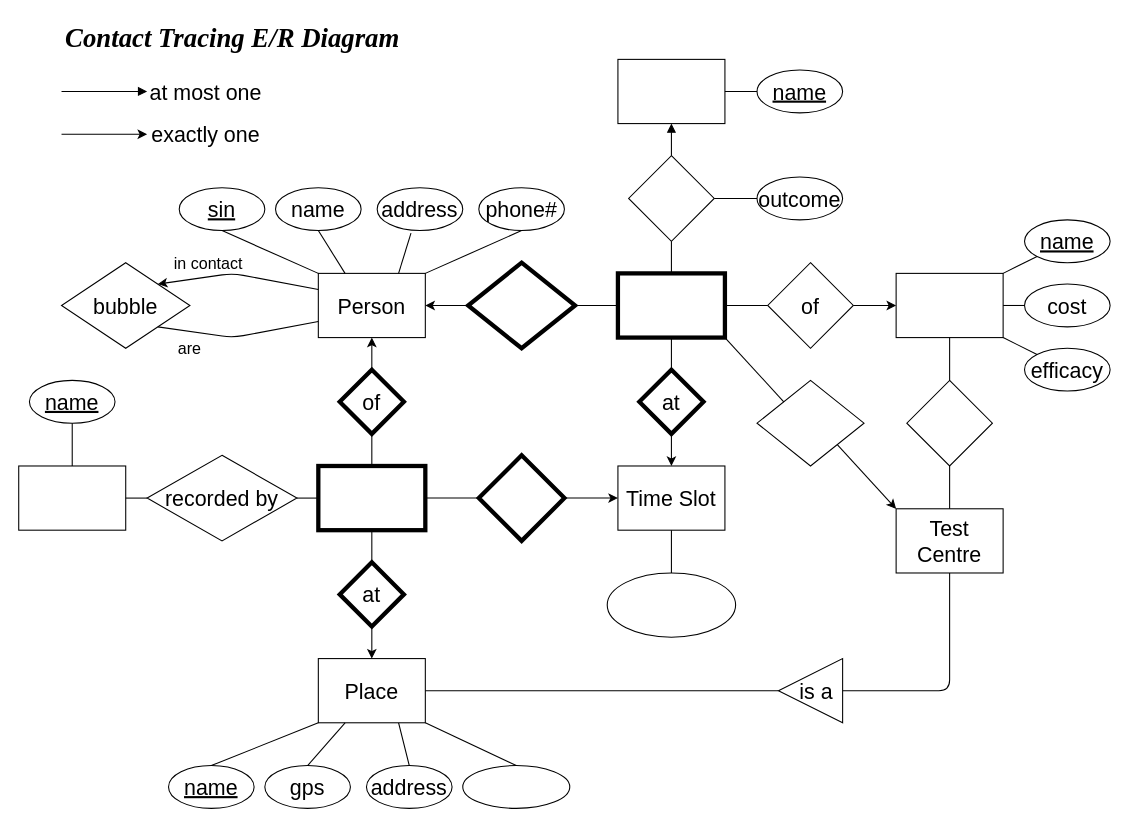
Some shapes in this 1129 by 827 pixel diagram are drawn without their labels. Each missing label, with the centre of its shape:
"Action" belongs at (671,91).
"admin. in" belongs at (810,422).
"admin. to" belongs at (521,305).
"description" belongs at (516,786).
"during" belongs at (521,497).
"Method" belongs at (72,497).
"offered" belongs at (949,422).
"Recon" belongs at (371,497).
"result" belongs at (671,198).
"Test" belongs at (671,305).
"Test Type" belongs at (949,305).
"when (period)" belongs at (671,604).
